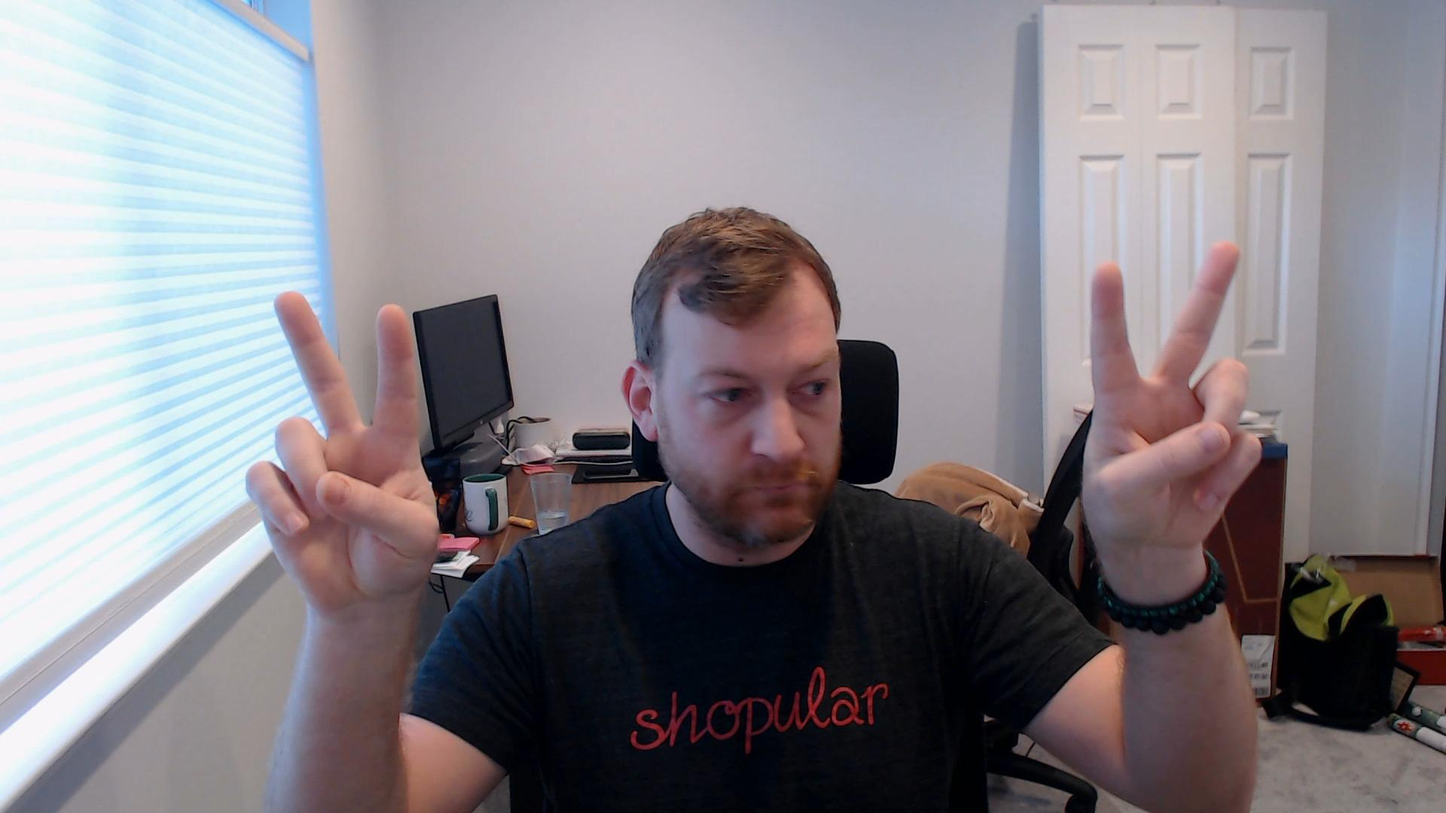face: (647, 269, 844, 553)
